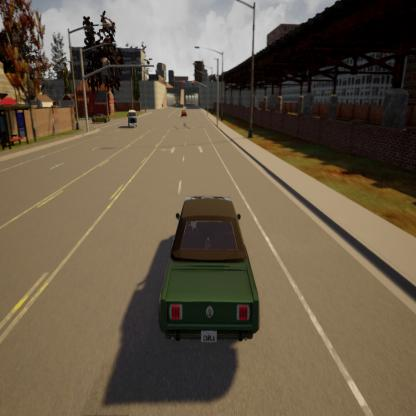Cars: (157, 196, 260, 347), (90, 112, 112, 127), (126, 105, 139, 129), (180, 105, 188, 120)
